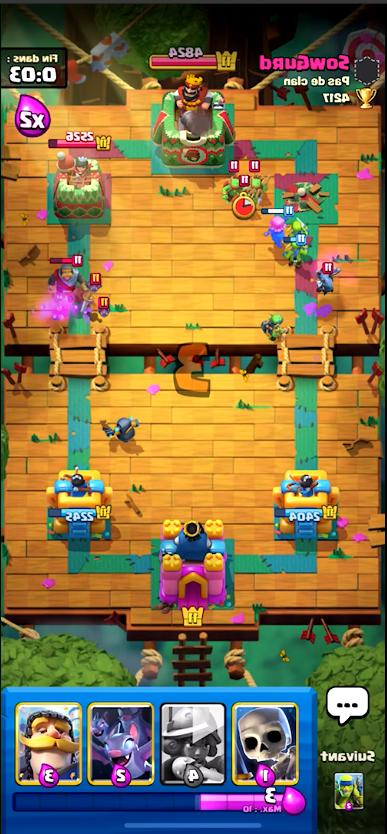bat: (87, 270, 101, 295), (98, 298, 115, 318)
chevalier: (50, 253, 82, 292)
gargouille: (314, 263, 338, 293)
gobelin: (281, 235, 305, 264), (289, 215, 306, 235)
gobelin_lances: (222, 162, 244, 200), (244, 162, 266, 199), (262, 312, 284, 338), (237, 176, 252, 194)
mini_PEKKA: (100, 415, 140, 447)
valkyrie: (264, 201, 293, 248)
